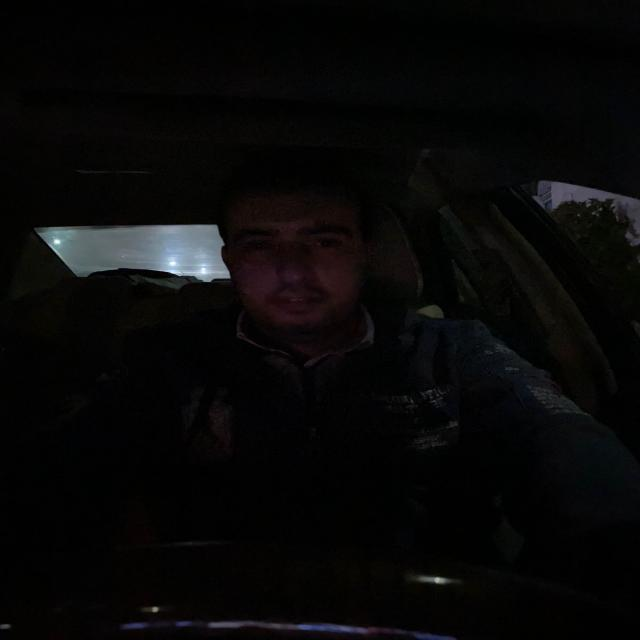person: (217, 190, 368, 335)
